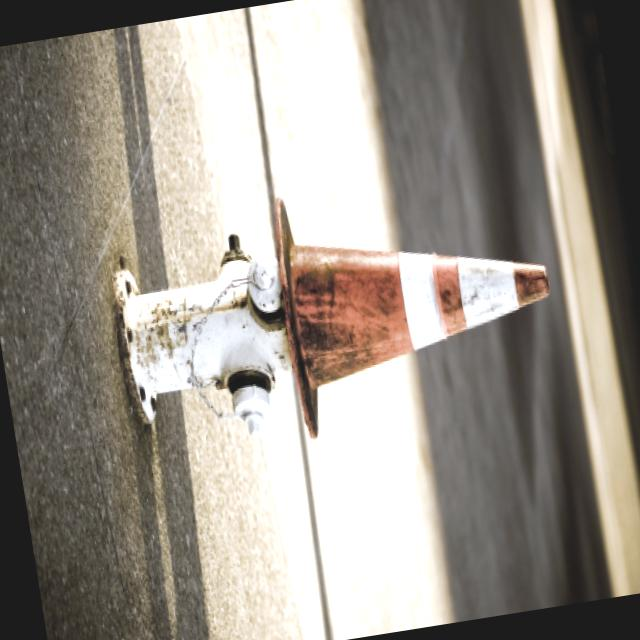cone: (265, 142, 601, 463)
